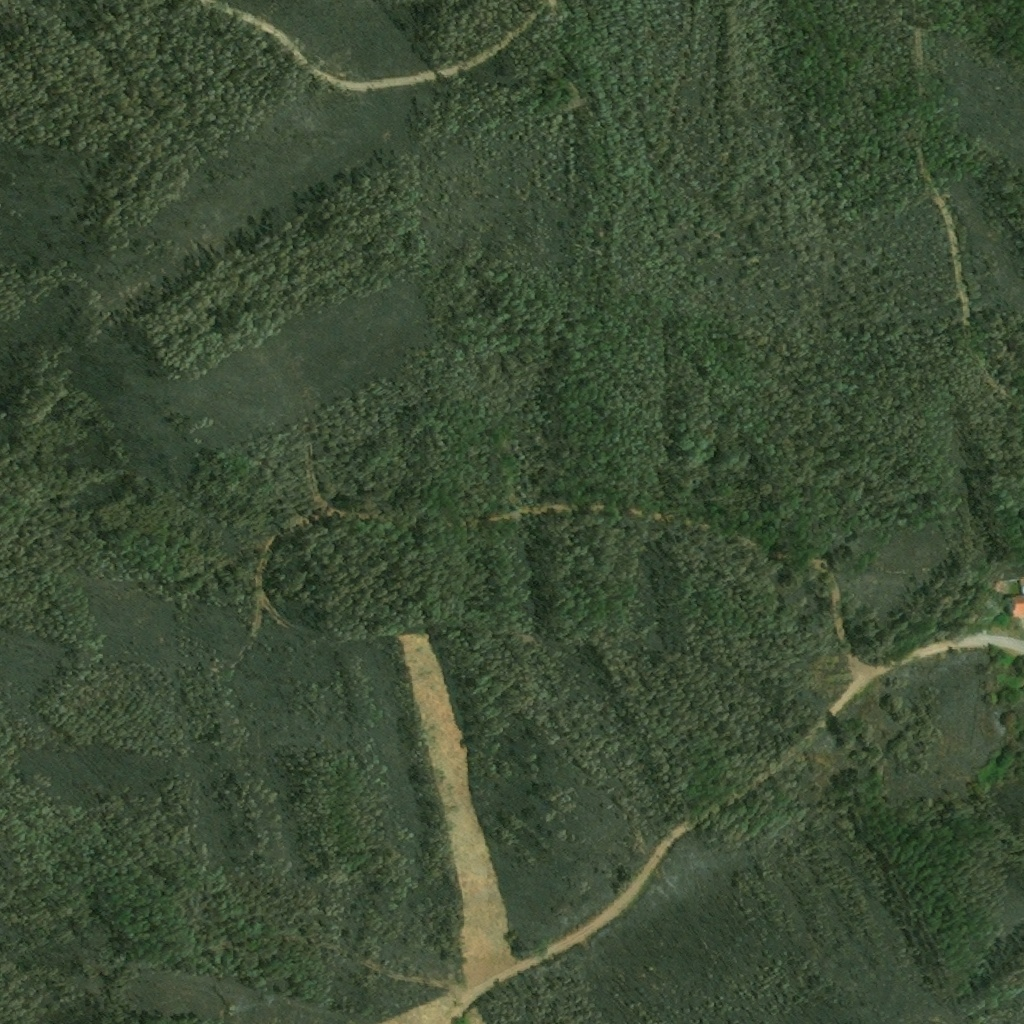4 un-classified: (1007, 595, 1023, 617)
